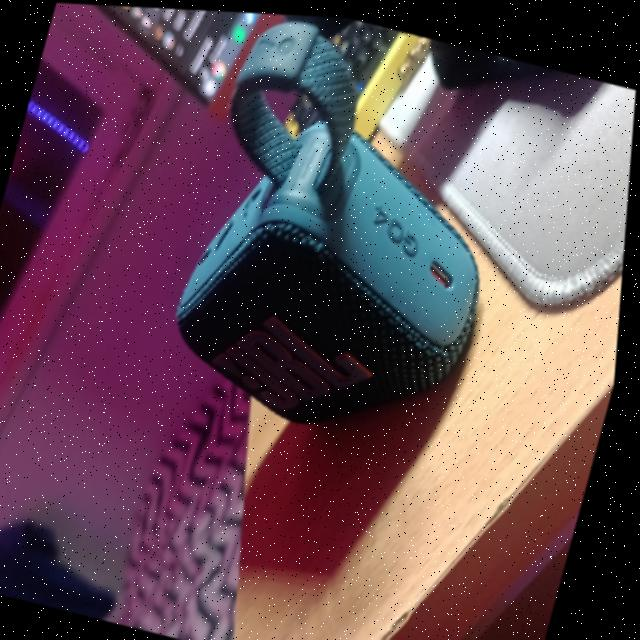column JBL: (143, 7, 547, 456)
